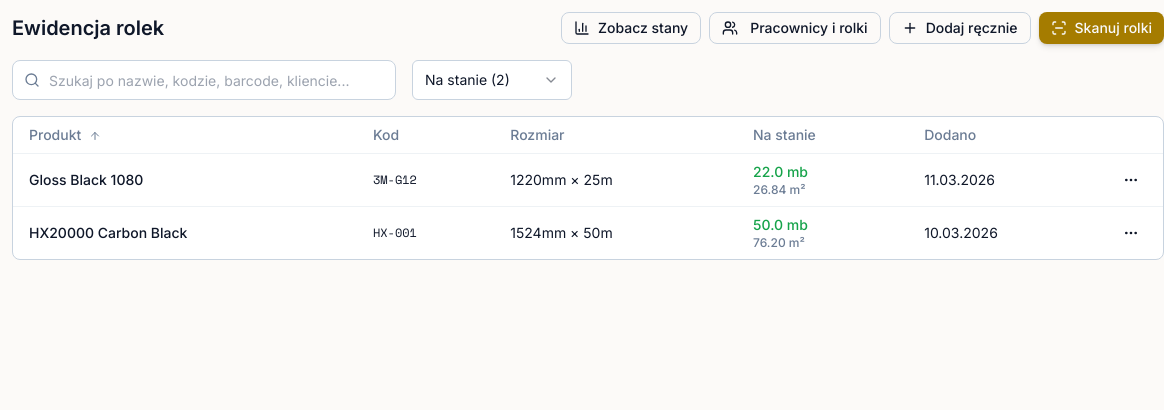
Scenario: SalesRollsView › dropdown menu has "Usuń" (delete) option
Expected: the text "HX20000 Carbon Black" is shown, [29,224,187,240]
// Click the first MoreHorizontal dropdown button
Click the button without text in the row of "HX20000 Carbon Black": (1131, 232) [1115,216,1147,248]
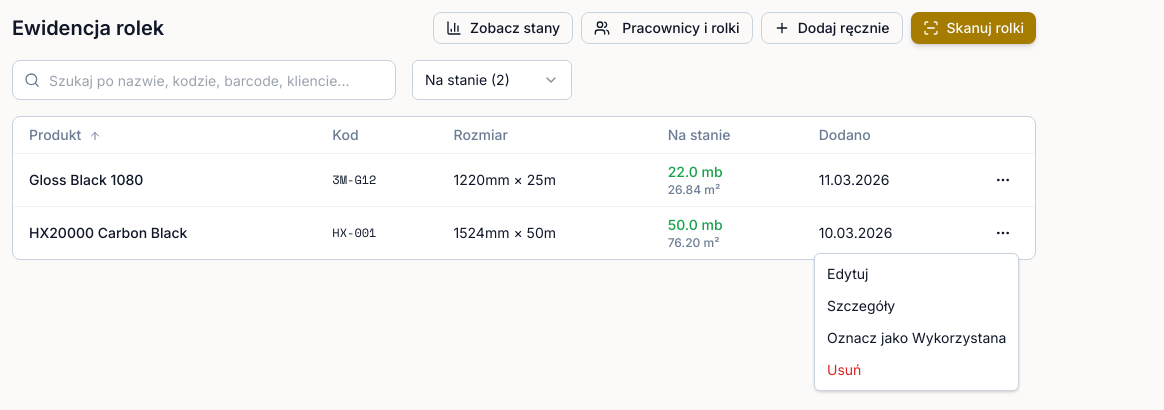
Expected: the menu item "Usuń" is shown, [819,354,1014,386]
